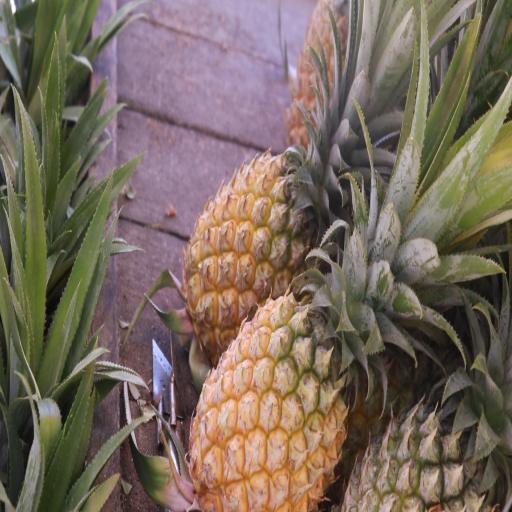Pineapple - v8 v1: (179, 90, 336, 376), (186, 270, 356, 512)
